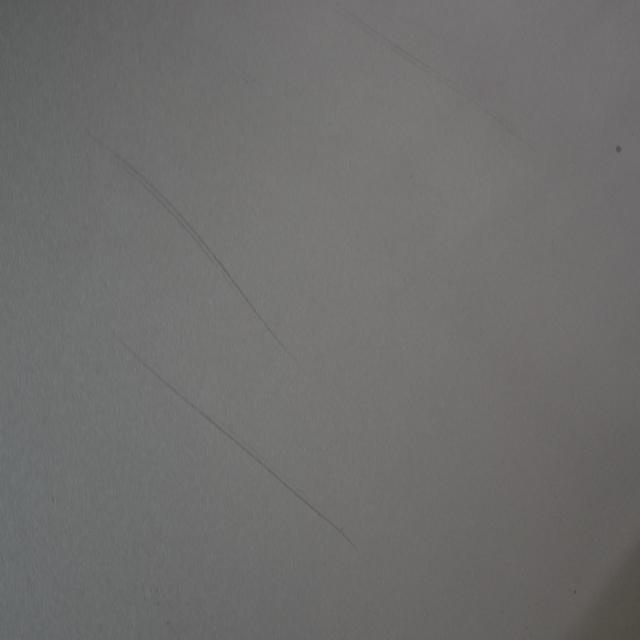dirt: (613, 139, 624, 158)
scratch: (85, 118, 302, 366), (115, 328, 357, 549), (340, 5, 539, 160)
